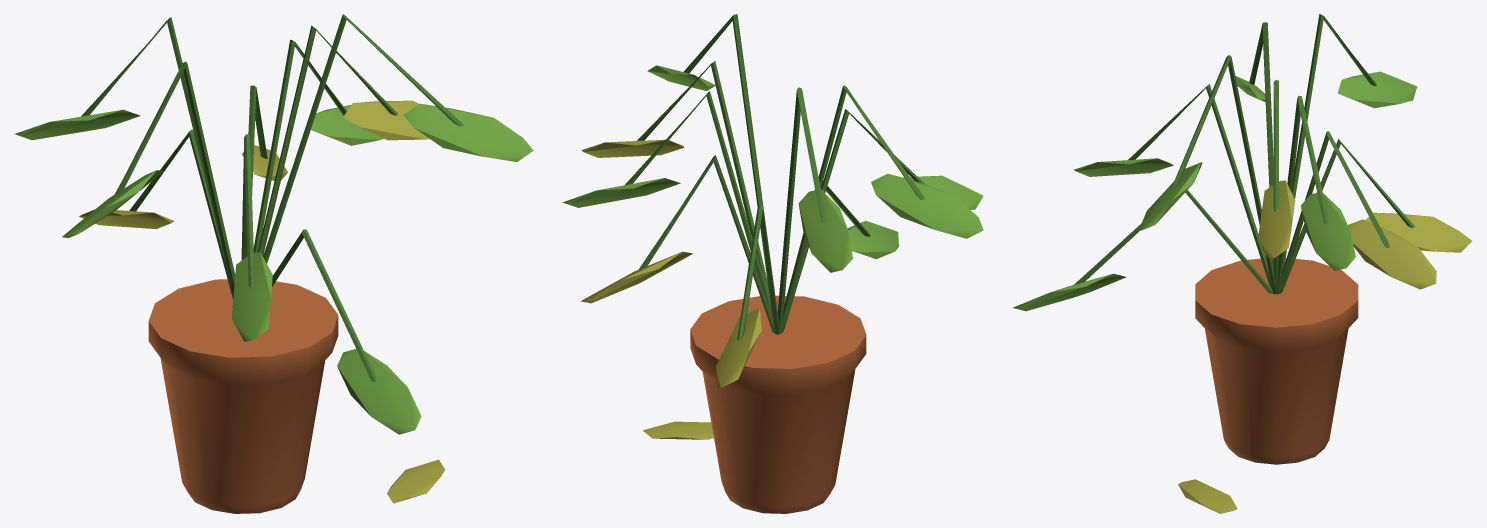
Rendered from plant.glb.
3 views of the same model, side by side, from view 1: azimuth 30°, elevation 25°; view 2: azimuth 150°, elevation 25°; view 3: azimuth 270°, elevation 25° (orthographic). The views are drawn at different scales.
Parts seen in each view (by area): view 1: plant; view 2: plant; view 3: plant.
Part boxes in pixels (box(x1,y1,x2,y2)): plant: box(14, 14, 533, 513); plant: box(562, 14, 983, 513); plant: box(1013, 14, 1471, 513).
Bounding box in the file's own units: 1.71 × 1.88 × 1.87.
